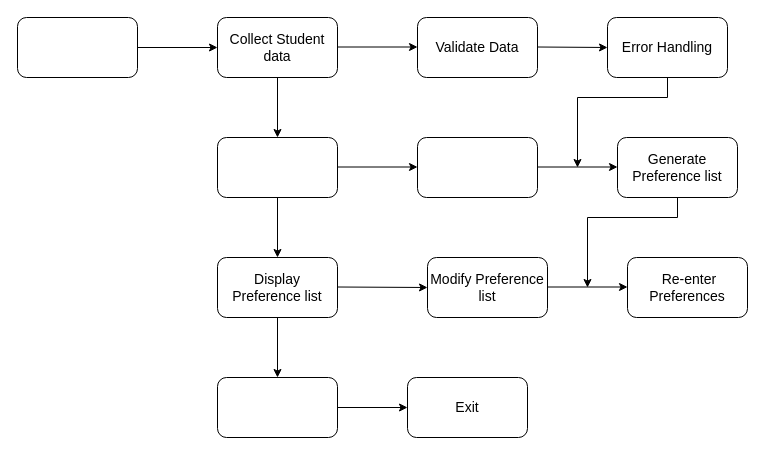
This 765x455 diagram has some shape labels left out. The shapes that lost their labels are listed below. From the top down, each one's box as (x1, y1, x2, y2) in pixels, then its label:
(16, 16, 138, 78): Start
(216, 136, 338, 198): Generate College
(416, 136, 538, 198): Rank Colleges
(216, 376, 338, 438): Save/Export List
